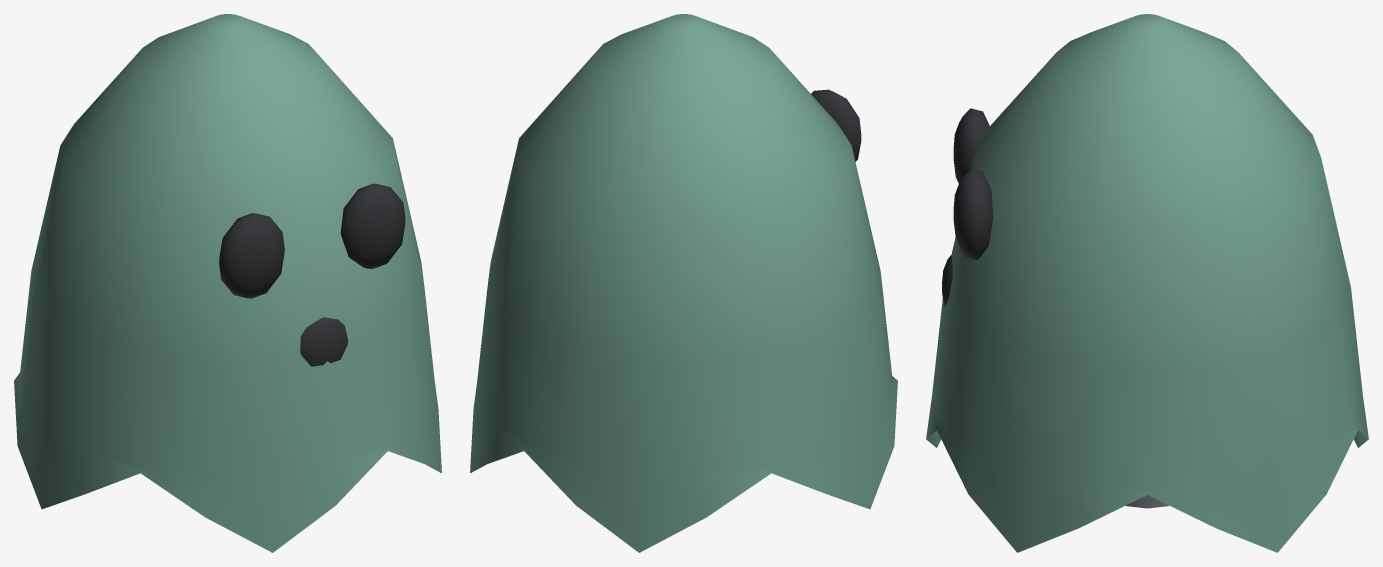
The model's file is bob_ghost.fbx.
The picture shows the model from 3 angles, left to right: view 1: azimuth 30°, elevation 25°; view 2: azimuth 150°, elevation 25°; view 3: azimuth 270°, elevation 25°; orthographic projection. The views are drawn at different scales.
Parts seen in each view (by area): view 1: ghost_1, dark_1; view 2: ghost_1, dark_1; view 3: ghost_1, dark_1.
Part boxes in pixels (x1,y1,x2,y2): ghost_1: [14, 14, 441, 552]; dark_1: [219, 183, 405, 366]; ghost_1: [470, 14, 897, 552]; dark_1: [811, 89, 861, 161]; ghost_1: [926, 14, 1368, 552]; dark_1: [942, 108, 992, 306].
Size of the model in its own units: 0.0137 by 0.016 by 0.0137.
